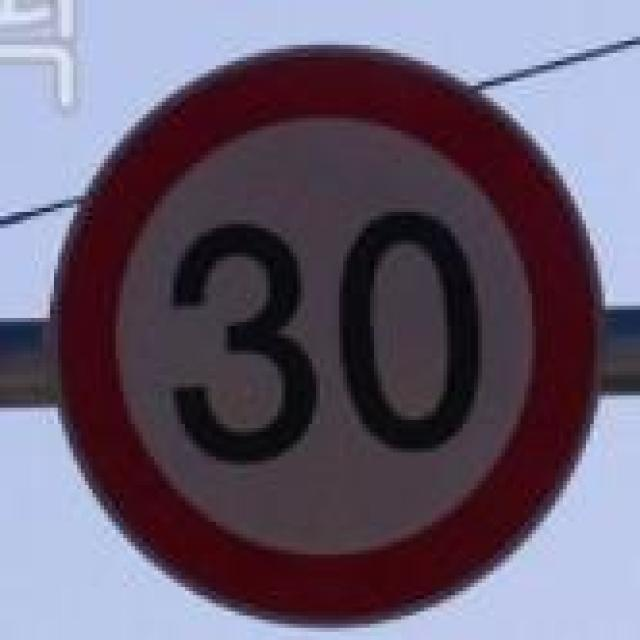speed_limit_30: (50, 45, 598, 628)
